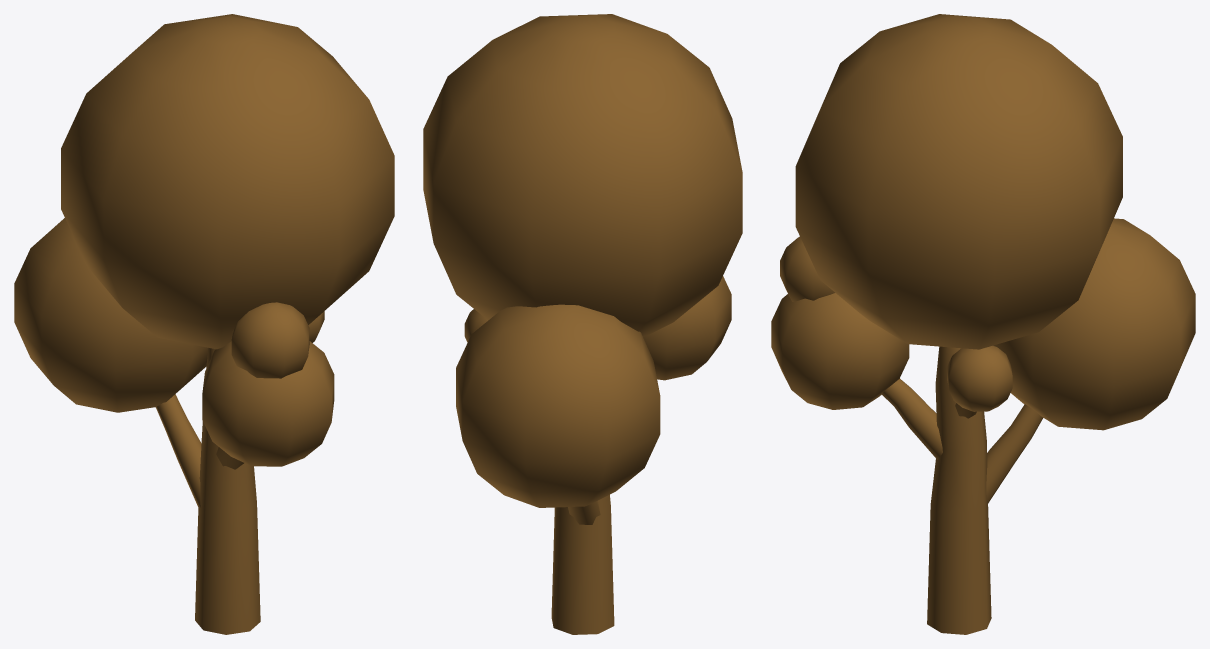
Rendered from arbol.fbx.
3 renders of one model, left to right at view 1: azimuth 30°, elevation 25°; view 2: azimuth 150°, elevation 25°; view 3: azimuth 270°, elevation 25°, orthographic.
Parts seen in each view (by area): view 1: sm_arbol_redondo.004, sm_arbol_redondo.006, sm_arbol_redondo.007, sm_arbol_redondo, sm_arbol_redondo.008, sm_arbol_redondo.002; view 2: sm_arbol_redondo.004, sm_arbol_redondo.006, sm_arbol_redondo, sm_arbol_redondo.007, sm_arbol_redondo.002; view 3: sm_arbol_redondo.004, sm_arbol_redondo.006, sm_arbol_redondo, sm_arbol_redondo.007, sm_arbol_redondo.005, sm_arbol_redondo.002, sm_arbol_redondo.001, sm_arbol_redondo.008.
Part boxes in pixels (x1,y1,x2,y2): sm_arbol_redondo.004: (61,14,394,349); sm_arbol_redondo.006: (14,218,208,412); sm_arbol_redondo.007: (202,341,334,466); sm_arbol_redondo: (195,348,260,634); sm_arbol_redondo.008: (231,302,309,378); sm_arbol_redondo.002: (155,394,201,507); sm_arbol_redondo.004: (423,14,742,337); sm_arbol_redondo.006: (456,304,660,507); sm_arbol_redondo: (551,494,614,634); sm_arbol_redondo.007: (643,276,731,380); sm_arbol_redondo.002: (568,500,600,524); sm_arbol_redondo.004: (795,14,1122,349); sm_arbol_redondo.006: (993,218,1195,430); sm_arbol_redondo: (927,346,991,634); sm_arbol_redondo.007: (771,293,909,409); sm_arbol_redondo.005: (947,345,1012,411); sm_arbol_redondo.002: (986,404,1042,503); sm_arbol_redondo.001: (881,378,942,459); sm_arbol_redondo.008: (780,236,834,301).
Bounding box in the file's own units: 372 × 746 × 483.
